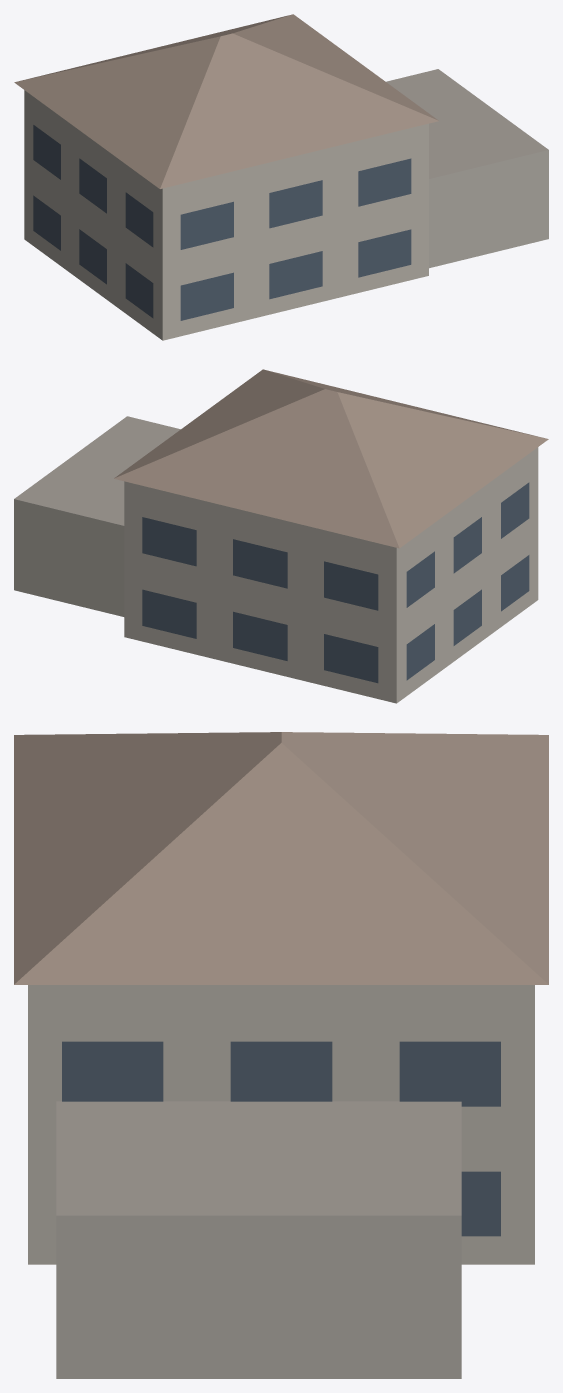
File: house_06_garage_cottage.glb
3 renders of one model, top to bottom at view 1: azimuth 30°, elevation 25°; view 2: azimuth 150°, elevation 25°; view 3: azimuth 270°, elevation 25°, orthographic. The views are drawn at different scales.
Visible parts, largest first — view 1: house_06_garage_cottage; view 2: house_06_garage_cottage; view 3: house_06_garage_cottage.
Part boxes in pixels (x1=…): house_06_garage_cottage: x1=14, y1=14, x2=548, y2=340; house_06_garage_cottage: x1=14, y1=369, x2=548, y2=703; house_06_garage_cottage: x1=14, y1=732, x2=548, y2=1378.
Size of the model in its own units: 15.05 by 8 by 9.5.
